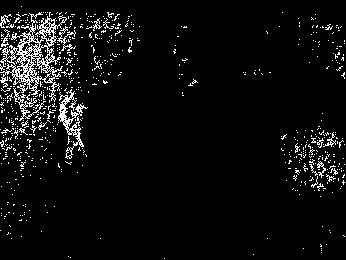person: (59, 91, 88, 165)
